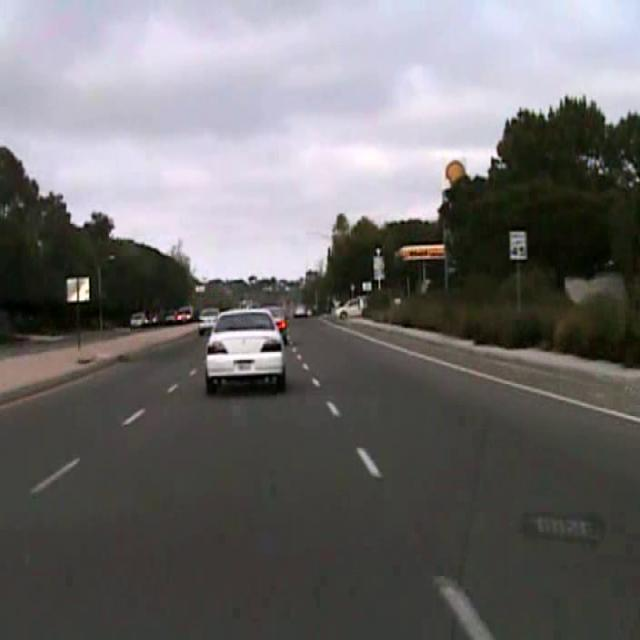speedLimit45: (508, 229, 527, 260)
